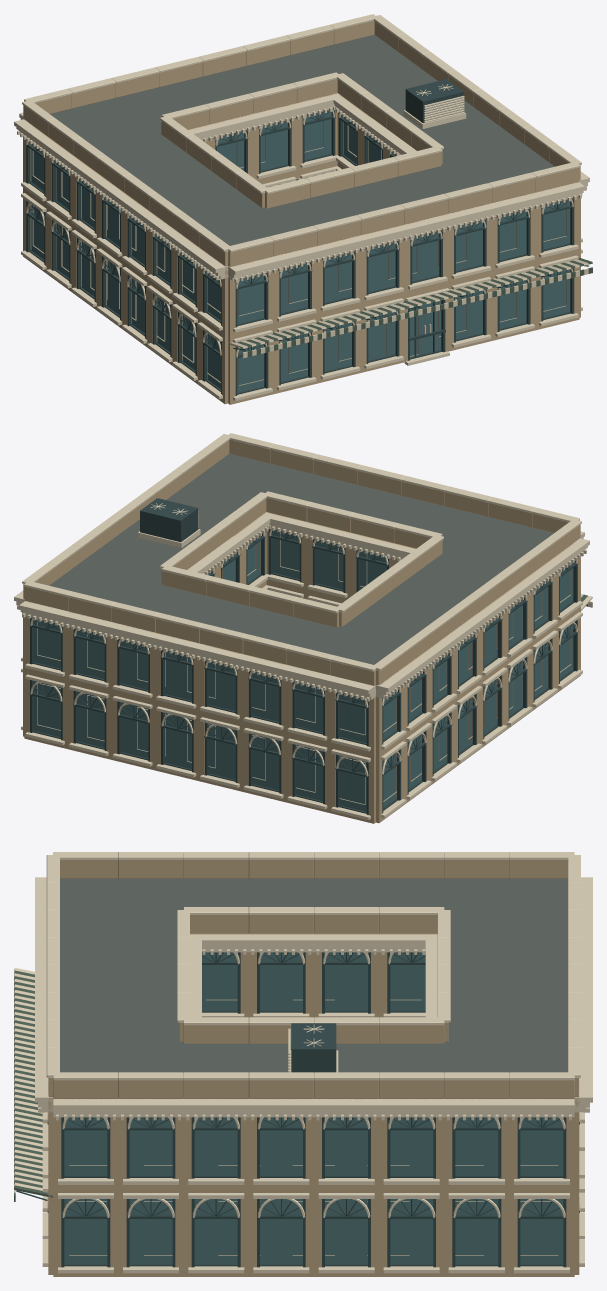
The model's file is market-arcade.glb.
The picture shows the model from 3 angles, top to bottom: view 1: azimuth 30°, elevation 25°; view 2: azimuth 150°, elevation 25°; view 3: azimuth 270°, elevation 25°; orthographic projection. The views are drawn at different scales.
Parts seen in each view (by area): view 1: Roof main.010, Foundation.028, collection/roof/frame.003, collection/roof/trim.003, main/north/0/5625/glass, main/north/1/3125/glass, court/south/1/6250/glass, main/north/1/5625/glass, main/north/1/4375/glass, court/south/1/8750/glass, main/north/1/9375/glass, main/north/1/8125/glass (+92 smaller); view 2: Roof main.010, Foundation.028, collection/roof/frame.003, main/south/0/9375/glass, main/south/0/6875/glass, main/south/0/3125/glass, main/south/0/8125/glass, main/south/0/625/glass, main/south/0/4375/glass, main/south/0/5625/glass, main/south/0/1875/glass, main/south/0/625/wall (+110 smaller); view 3: Roof main.010, main/east/0/625/glass, main/east/0/1875/glass, main/east/0/8125/glass, main/east/0/6875/glass, main/east/0/9375/glass, main/east/0/3125/glass, main/east/0/4375/glass, main/east/0/5625/glass, main/east/1/625/glass, main/east/1/8125/glass, main/east/1/1875/glass (+120 smaller).
Boxes of the visible parts, left/top/right/bottom form: Roof main.010: left=50, top=34, right=554, bottom=266; Foundation.028: left=32, top=112, right=566, bottom=385; collection/roof/frame.003: left=405, top=79, right=463, bottom=123; collection/roof/trim.003: left=403, top=84, right=466, bottom=128; main/north/0/5625/glass: left=410, top=301, right=441, bottom=357; main/north/1/3125/glass: left=324, top=253, right=351, bottom=302; court/south/1/6250/glass: left=260, top=121, right=287, bottom=170; main/north/1/5625/glass: left=412, top=231, right=439, bottom=281; main/north/1/4375/glass: left=368, top=242, right=395, bottom=292; court/south/1/8750/glass: left=304, top=110, right=331, bottom=159; main/north/1/9375/glass: left=543, top=200, right=570, bottom=249; main/north/1/8125/glass: left=499, top=210, right=526, bottom=259; Roof main.010: left=49, top=454, right=553, bottom=685; Foundation.028: left=37, top=531, right=571, bottom=804; collection/roof/frame.003: left=140, top=498, right=198, bottom=542; main/south/0/9375/glass: left=33, top=681, right=60, bottom=737; main/south/0/6875/glass: left=121, top=702, right=148, bottom=758; main/south/0/3125/glass: left=252, top=734, right=279, bottom=790; main/south/0/8125/glass: left=77, top=691, right=104, bottom=747; main/south/0/625/glass: left=339, top=755, right=366, bottom=811; main/south/0/4375/glass: left=208, top=723, right=235, bottom=779; main/south/0/5625/glass: left=165, top=713, right=191, bottom=768; main/south/0/1875/glass: left=296, top=745, right=322, bottom=800; main/south/0/625/wall: left=330, top=744, right=375, bottom=823; Roof main.010: left=60, top=878, right=567, bottom=1072; main/east/0/625/glass: left=520, top=1199, right=563, bottom=1263; main/east/0/1875/glass: left=455, top=1199, right=498, bottom=1263; main/east/0/8125/glass: left=129, top=1199, right=172, bottom=1263; main/east/0/6875/glass: left=194, top=1199, right=237, bottom=1263; main/east/0/9375/glass: left=64, top=1199, right=107, bottom=1263; main/east/0/3125/glass: left=390, top=1199, right=433, bottom=1263; main/east/0/4375/glass: left=325, top=1199, right=367, bottom=1263; main/east/0/5625/glass: left=260, top=1199, right=302, bottom=1263; main/east/1/625/glass: left=520, top=1117, right=563, bottom=1175; main/east/1/8125/glass: left=129, top=1117, right=172, bottom=1175; main/east/1/1875/glass: left=455, top=1117, right=498, bottom=1175.
Size of the model in its own units: 17.13 by 7.31 by 17.77.
